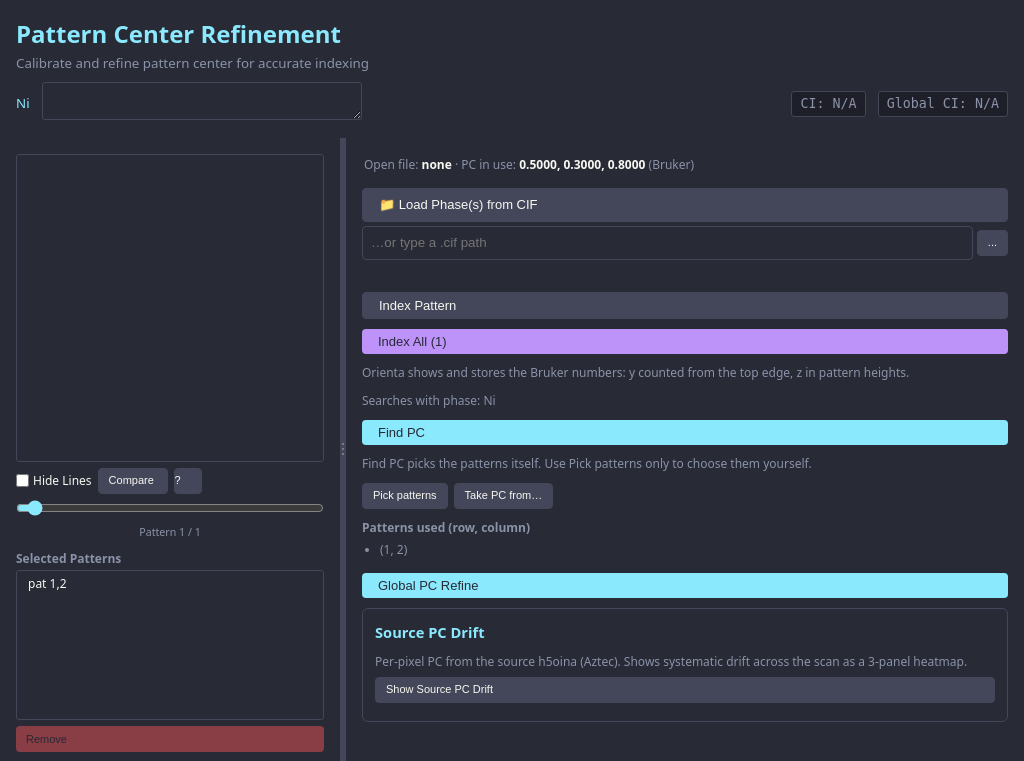
forward preview NCC › says that no orientation was found instead of showing a number
Click the element titled "Pattern at row 1, col 2". click: {"x": 47, "y": 584}
box: [28,575,66,592]
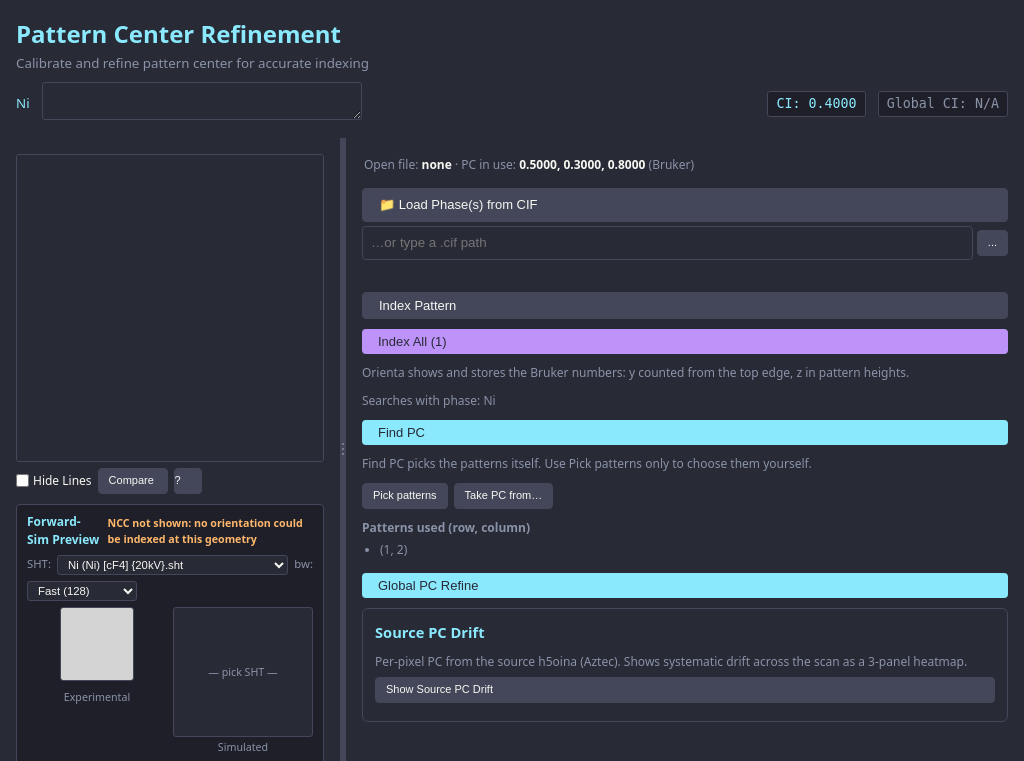
Expected: the text with test id "pc-ncc-none" shows "no orientation could be indexed", [108,516,303,546]
